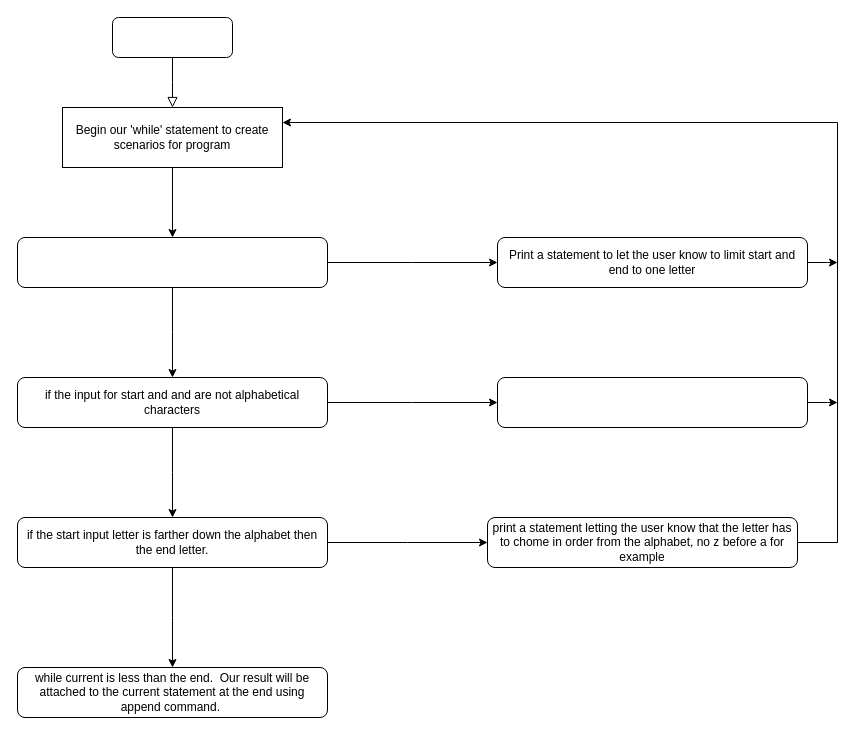
The diagram is 863 pixels wide and 735 high, and some of its shapes have lost their labels. The centre of each missing label's shape, as x and y in pixels:
Define our result as a list: (172,37)
If the number of letters for start or end are greater then one: (172,262)
print a statement to let the user know to enter only alphabetical characters: (652,402)
